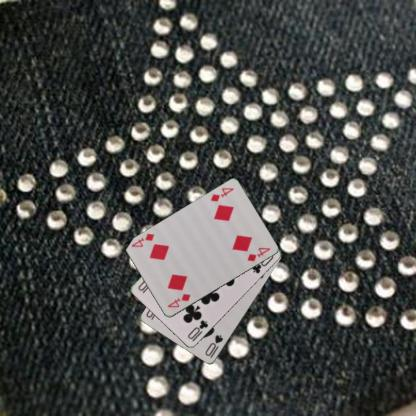10c: (185, 318, 209, 341)
10s: (202, 332, 224, 358)
4d: (164, 291, 192, 309), (208, 186, 235, 204)
